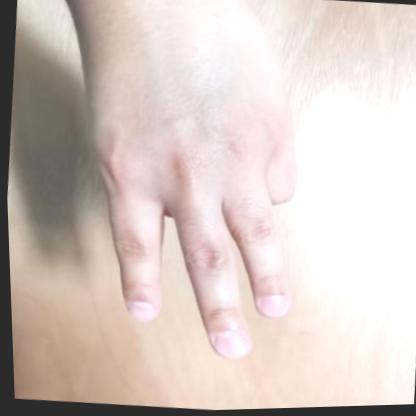M: (29, 1, 353, 381)
